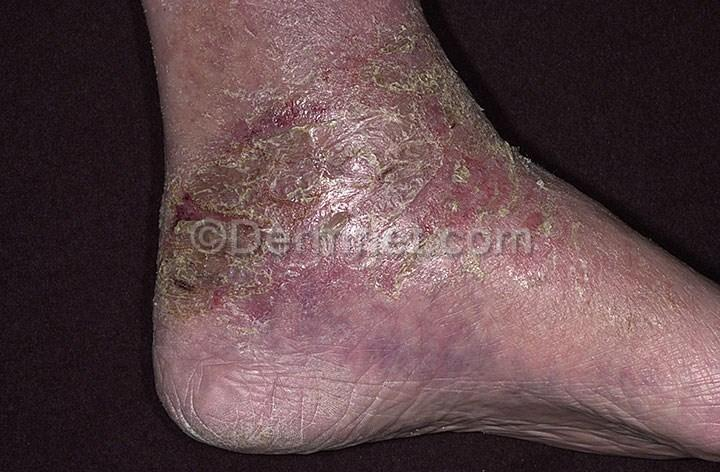Eczema: (161, 76, 389, 228), (387, 102, 569, 232), (546, 220, 683, 358), (151, 0, 379, 69), (171, 252, 289, 377), (425, 266, 555, 368), (291, 259, 419, 357), (390, 28, 461, 103), (716, 344, 718, 347)
